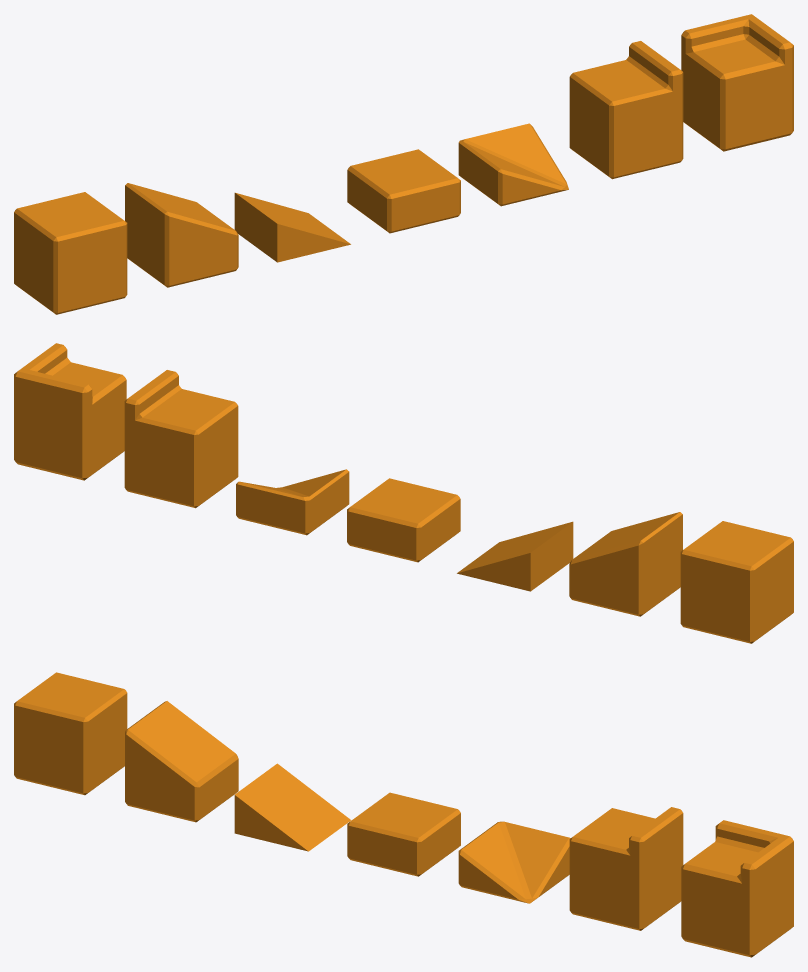
Rendered from GroundBlocks.glb.
3 renders of one model, top to bottom at view 1: azimuth 30°, elevation 25°; view 2: azimuth 150°, elevation 25°; view 3: azimuth 330°, elevation 25°, orthographic.
Parts seen in each view (by area): view 1: BlockWallCorner, BlockWall, Block, RampTop, BlockShort, RampLowerCorner, RampBottom; view 2: BlockWall, BlockWallCorner, Block, RampTop, BlockShort, RampLowerCorner, RampBottom; view 3: BlockWallCorner, BlockWall, Block, RampTop, BlockShort, RampLowerCorner, RampBottom.
Part boxes in pixels (<box>): BlockWallCorner: <box>681,14,793,151</box>; BlockWall: <box>569,41,683,179</box>; Block: <box>14,192,127,314</box>; RampTop: <box>125,183,238,287</box>; BlockShort: <box>347,149,460,233</box>; RampLowerCorner: <box>458,123,568,206</box>; RampBottom: <box>234,192,350,262</box>; BlockWall: <box>124,370,238,508</box>; BlockWallCorner: <box>14,343,126,480</box>; Block: <box>680,521,793,643</box>; RampTop: <box>569,512,682,616</box>; BlockShort: <box>347,478,460,562</box>; RampLowerCorner: <box>236,469,349,535</box>; RampBottom: <box>457,521,573,591</box>; BlockWallCorner: <box>681,820,793,957</box>; BlockWall: <box>569,807,683,930</box>; Block: <box>14,672,127,795</box>; RampTop: <box>125,701,238,822</box>; BlockShort: <box>347,792,460,876</box>; RampLowerCorner: <box>458,821,570,903</box>; RampBottom: <box>234,763,351,851</box>.
Size of what is drawn, in the model's own units: 20 by 2.4 by 2.
